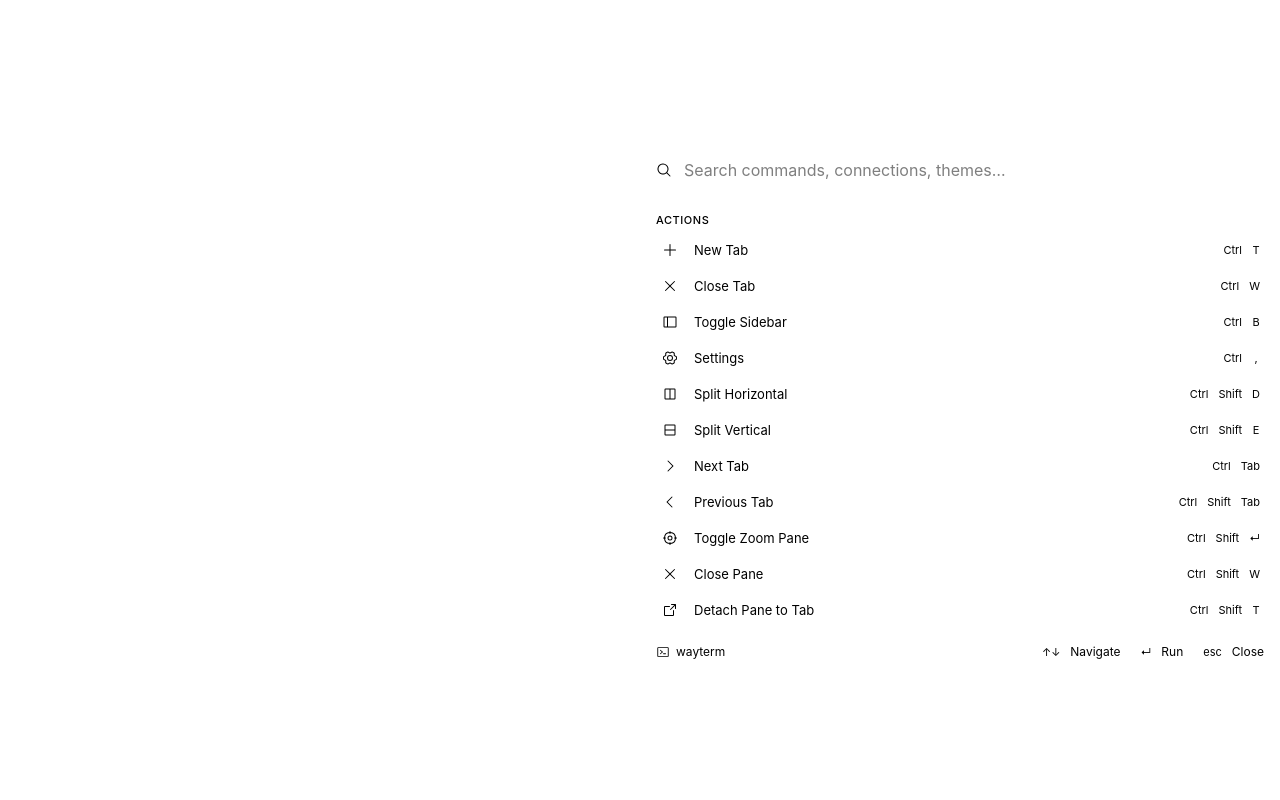
Test: CommandPalette › highlights the matched characters of a title
In the dropdown labelled "Search commands": {"x": 974, "y": 170} [684,144,1264,196], type "scratch"
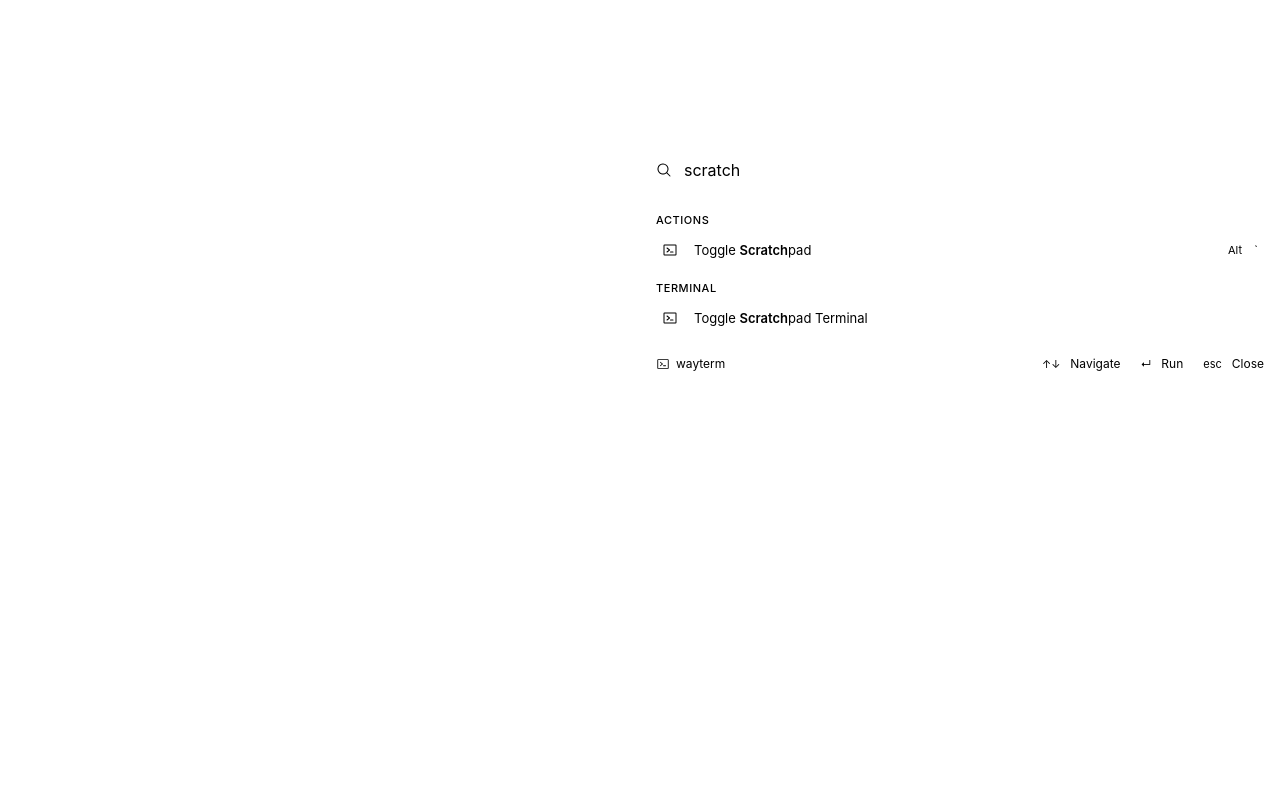
Check: the text "Scratch" below "Actions" is shown, box [740,242,788,258]
